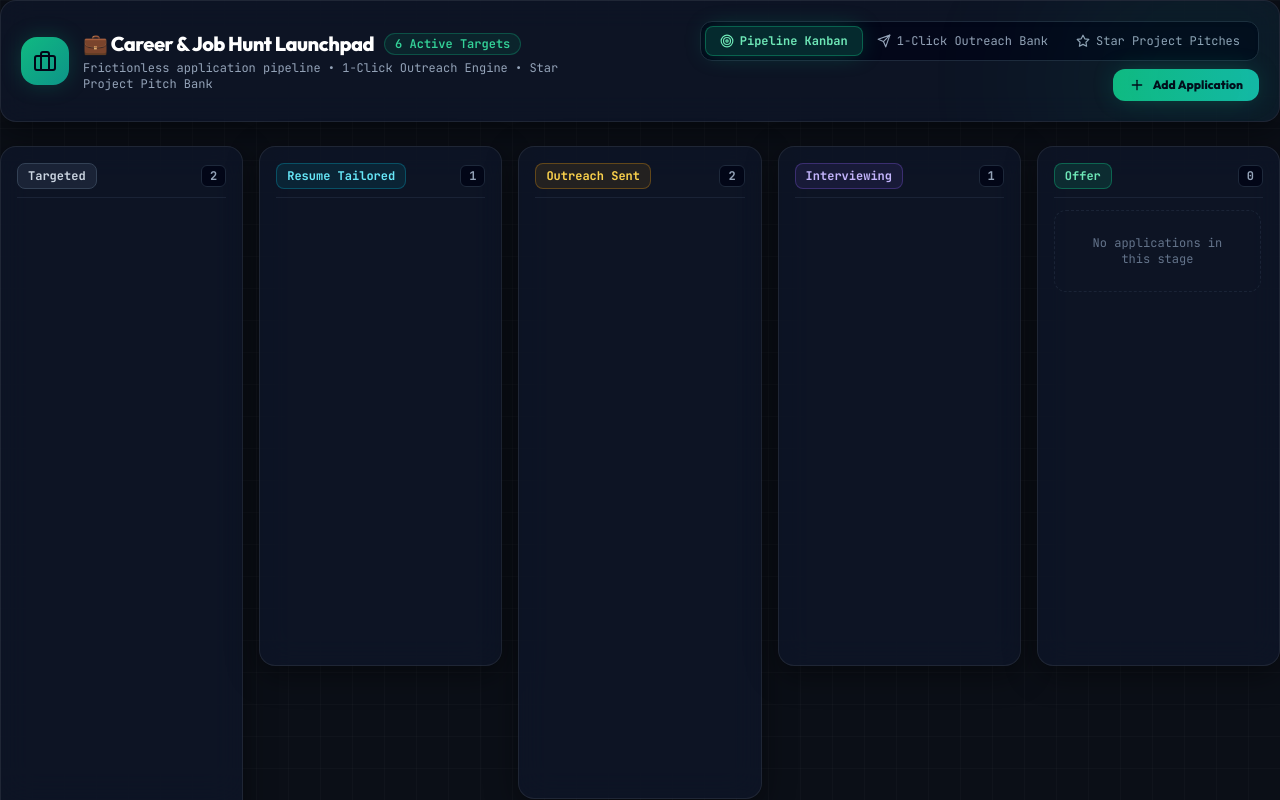
CareerJobHuntView Component › switches to Outreach Templates view when tab clicked
Click the button "1-Click Outreach Bank": (962, 41) 863,27 -> 1062,55
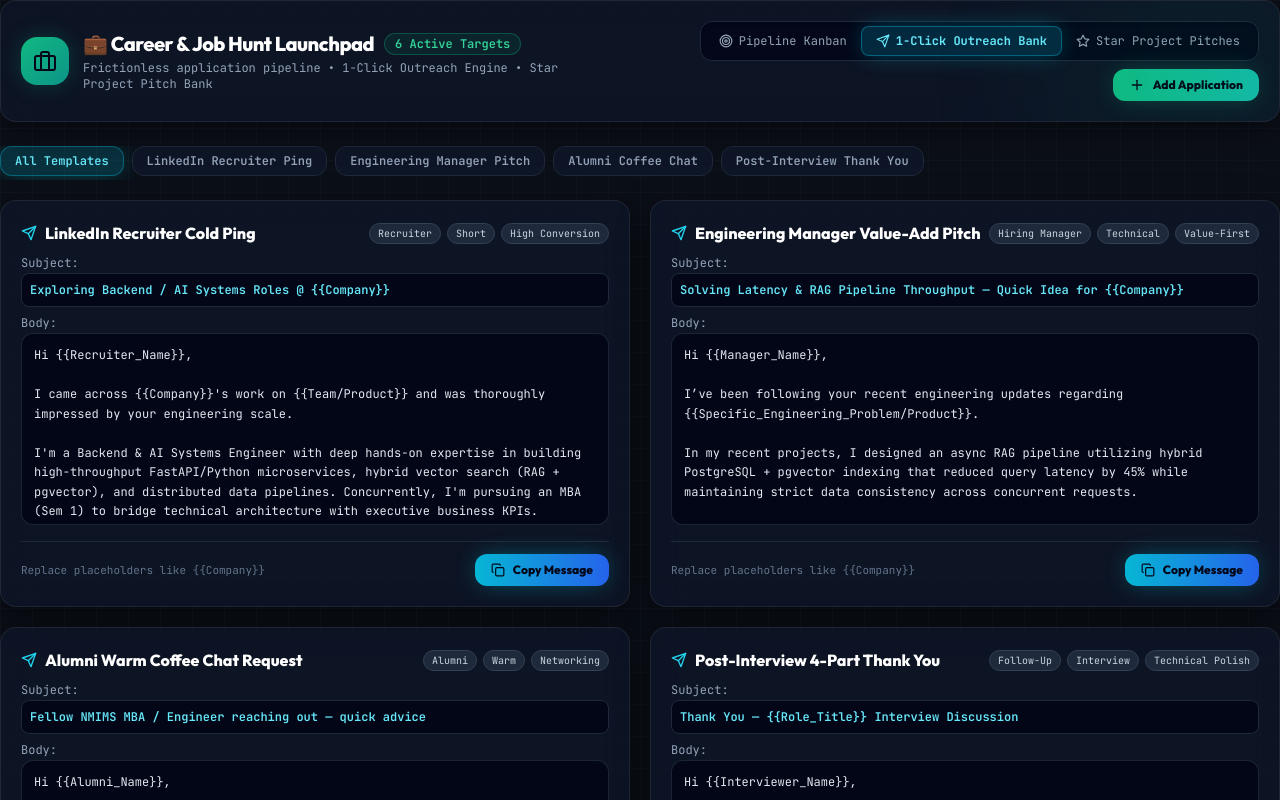
Check: the heading "LinkedIn Recruiter Cold Ping" is shown, box 21,221 -> 256,245
Check: the heading "Engineering Manager Value-Add Pitch" is shown, box 671,221 -> 981,245
